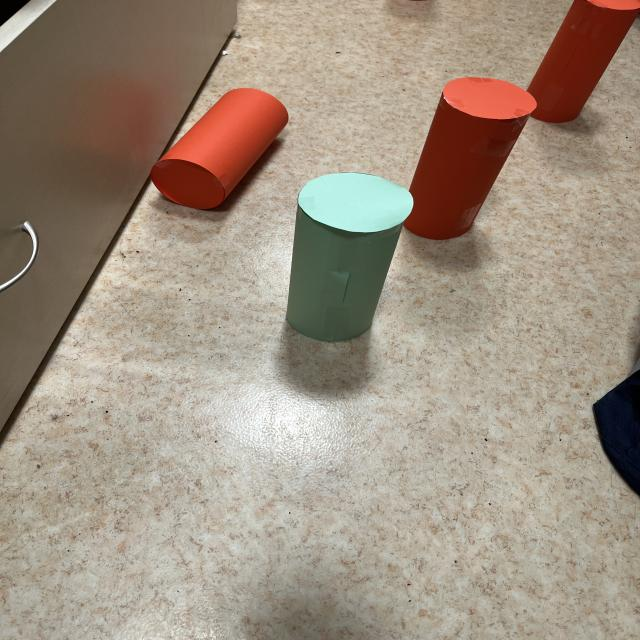meta: (286, 173, 413, 341)
przeszkoda: (405, 78, 536, 239), (151, 88, 288, 209), (527, 0, 640, 123)
